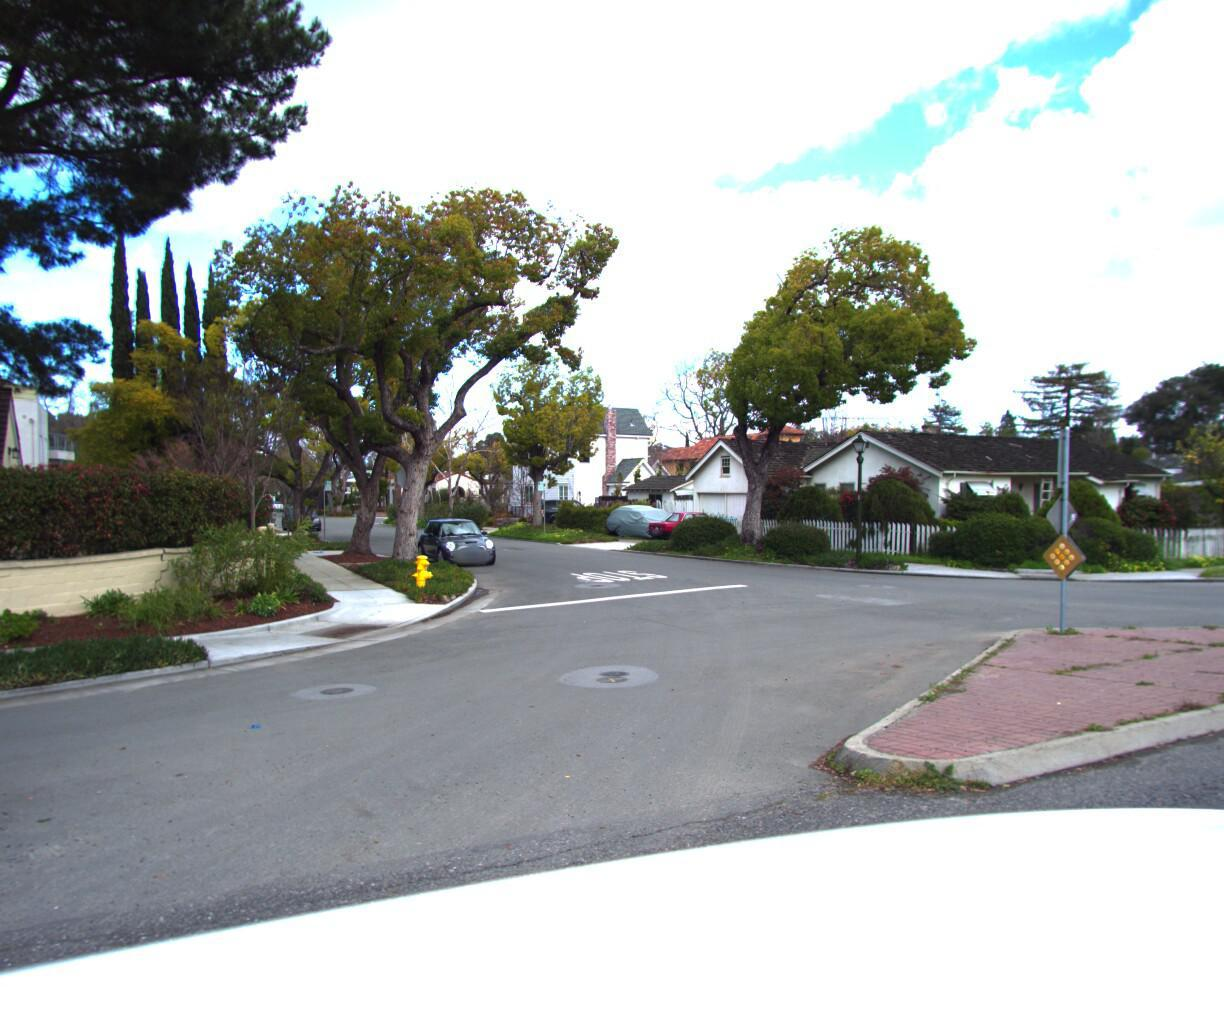car: (412, 517, 501, 573), (644, 513, 738, 545), (605, 507, 687, 543), (529, 499, 610, 530)
